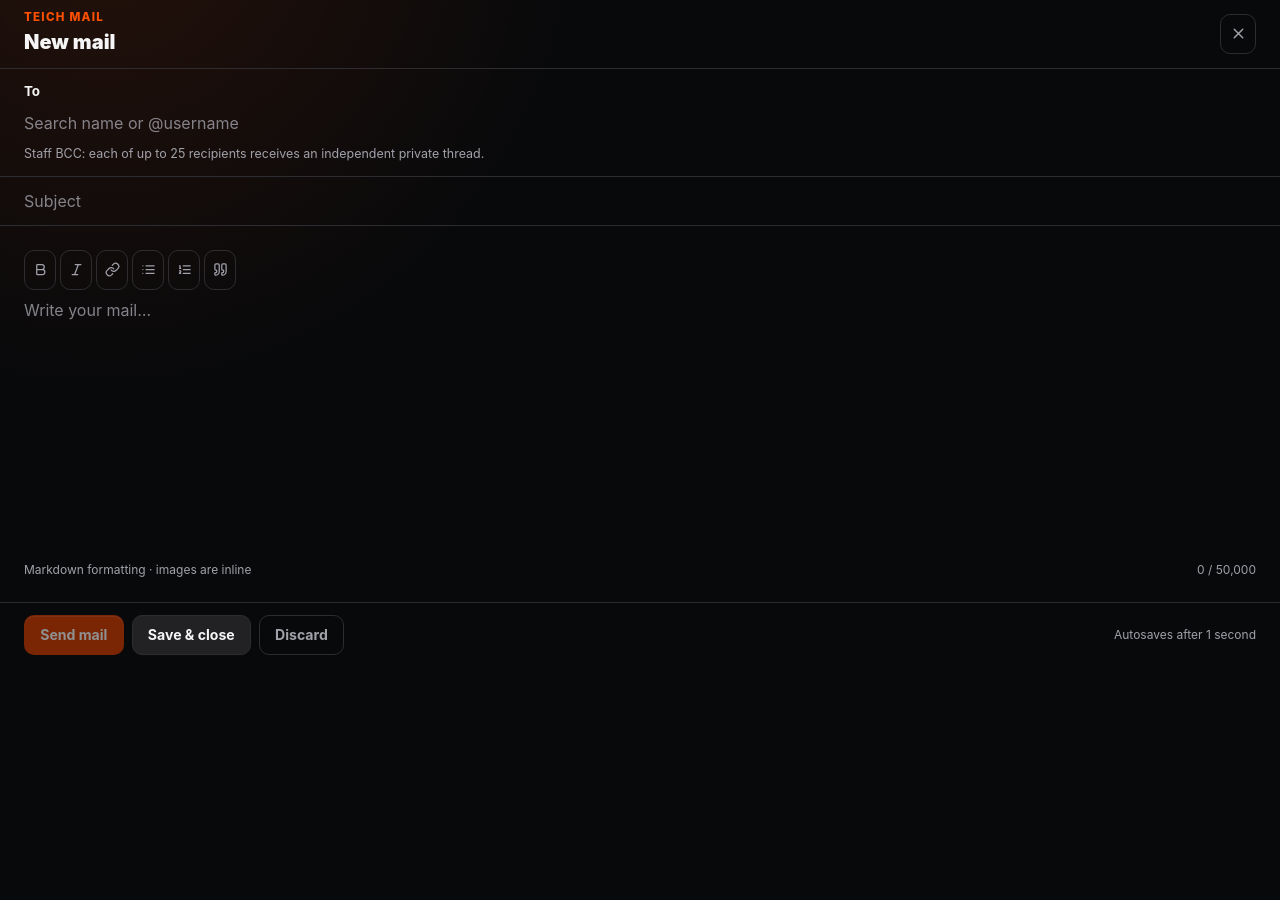
Scenario: MailComposer › debounces recipient search and presents loading, result count, and member details
Expected: the text "Staff BCC" is shown, [24,146,484,161]
Type "ot" into the dropdown labelled "To" at (640, 123), box [24,107,1256,139]
Wait 250 ms
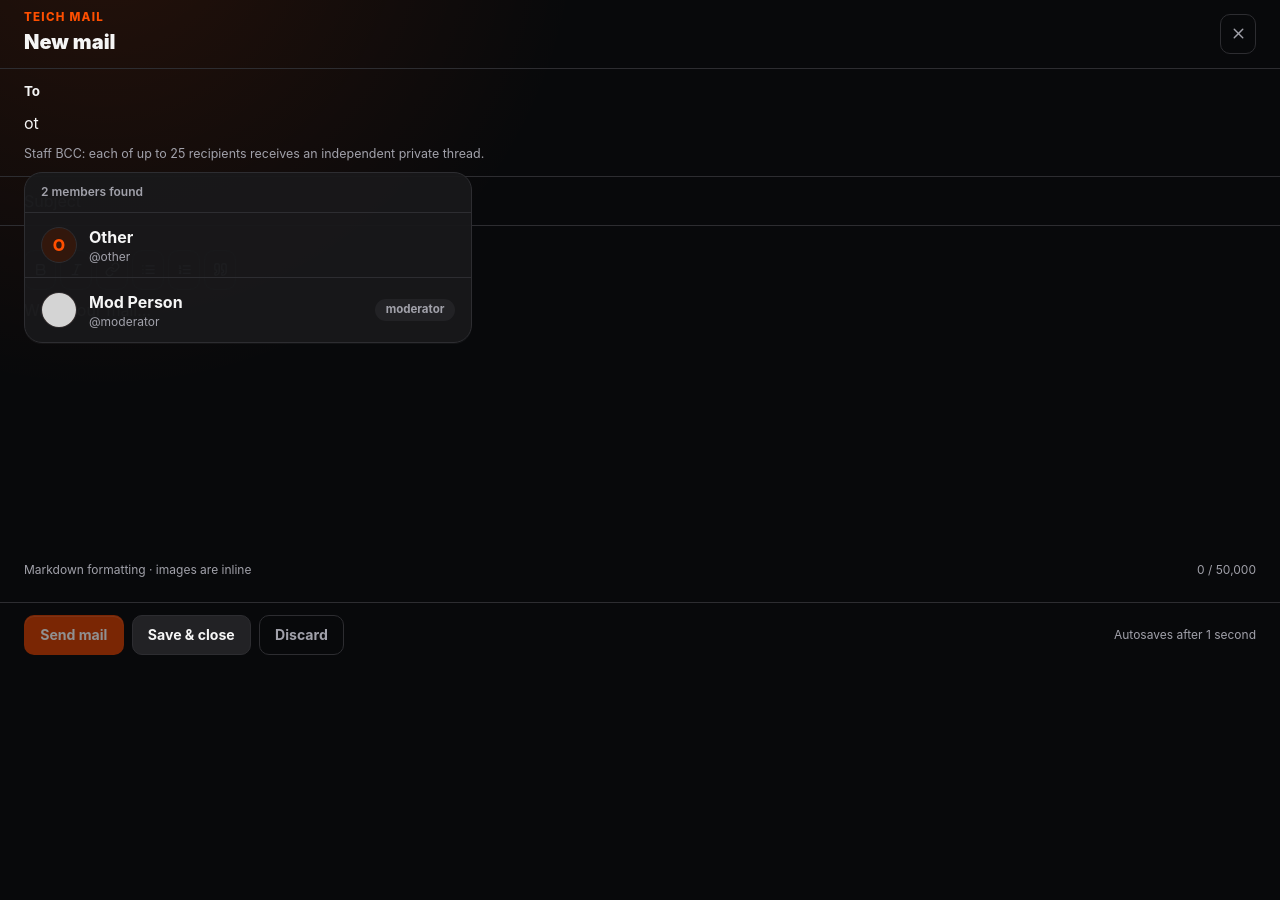
Now the dropdown labelled "To" is expanded, box [24,107,1256,139]
Now the text "2 members found" is shown, box [25,173,471,213]
Now the number of options is 2, box [25,213,471,278]; [25,278,471,342]
